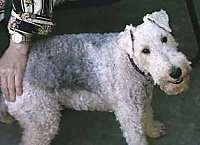wire-haired_fox_terrier: (4, 10, 192, 144)
